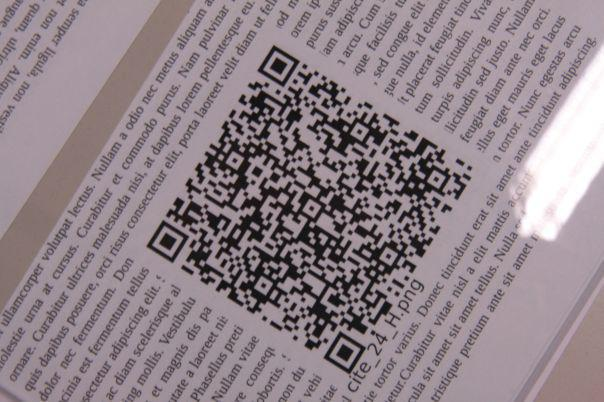Finder pattern: (253, 48, 304, 86), (322, 333, 368, 373), (145, 221, 189, 262)
